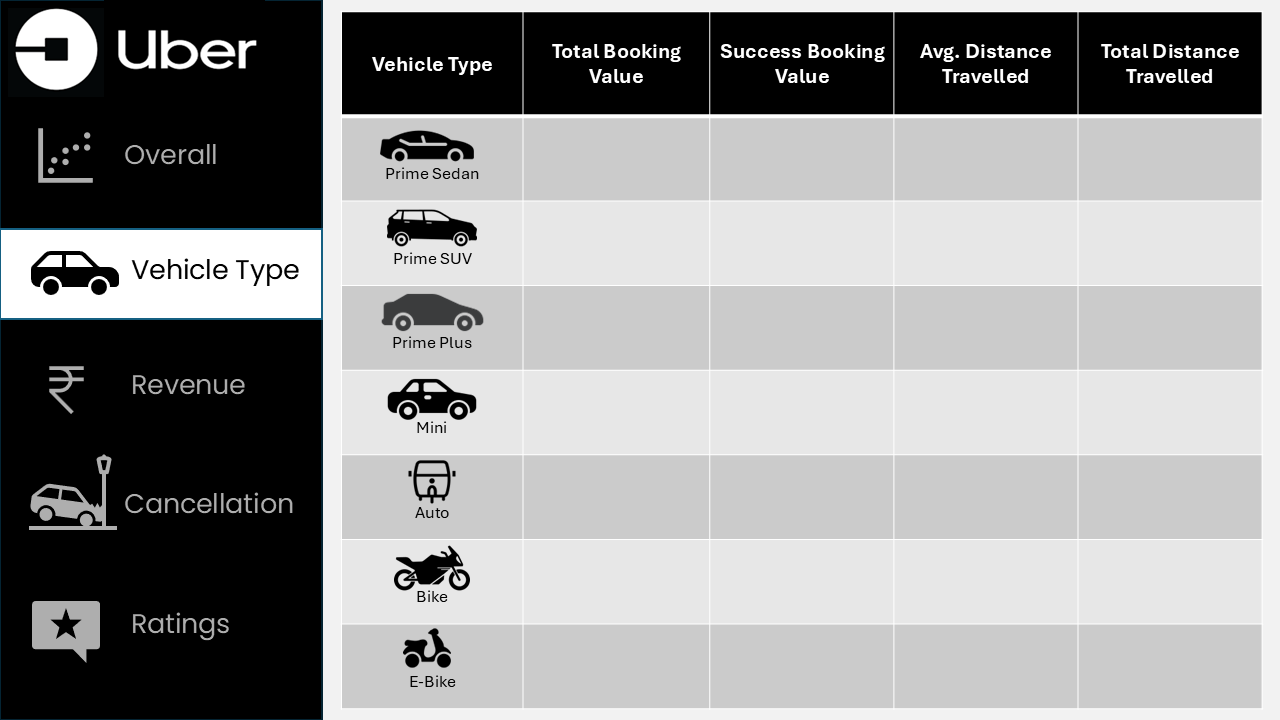

Layout of this report page (visuals, bound fields, positions):
{"tool":"powerbi","page":{"name":"Vehicle Type","canvas":[1280,720],"ordinal":1},"visuals":[{"type":"actionButton","box":[0,335.4,322.1,90.5],"z":0},{"type":"actionButton","box":[0,446.4,322.1,90.5],"z":1000},{"type":"actionButton","box":[0,573.1,322.1,90.5],"z":2000},{"type":"actionButton","box":[0,107.4,322.1,90.5],"z":3000},{"type":"card","fields":{"Values":["Sum(July.Booking_Value)"]},"box":[533.2,117,168.9,80.8],"z":4000},{"type":"card","fields":{"Values":["Sum(July.Booking_Value)"]},"box":[533.2,197.8,169.1,80.3],"z":4001},{"type":"card","fields":{"Values":["Sum(July.Booking_Value)"]},"box":[533.2,279.5,169.1,80.3],"z":4002},{"type":"card","fields":{"Values":["Sum(July.Booking_Value)"]},"box":[533.2,359.8,169.1,80.3],"z":4003},{"type":"card","fields":{"Values":["Sum(July.Booking_Value)"]},"box":[533.2,455.8,169.1,80.3],"z":4004},{"type":"card","fields":{"Values":["Sum(July.Booking_Value)"]},"box":[533.2,537.5,169.1,80.3],"z":4005},{"type":"card","fields":{"Values":["Sum(July.Booking_Value)"]},"box":[533.2,617.8,169.1,80.3],"z":4006},{"type":"card","fields":{"Values":["Sum(July.Booking_Value)"]},"box":[712.4,111.8,169.1,80.3],"z":4007},{"type":"card","fields":{"Values":["Sum(July.Booking_Value)"]},"box":[712.4,457.2,169.1,80.3],"z":4008},{"type":"card","fields":{"Values":["Sum(July.Booking_Value)"]},"box":[712.4,359.8,169.1,80.3],"z":4009},{"type":"card","fields":{"Values":["Sum(July.Booking_Value)"]},"box":[712.4,279.5,169.1,80.3],"z":4010},{"type":"card","fields":{"Values":["Sum(July.Booking_Value)"]},"box":[712.4,199.2,169.1,80.3],"z":4011},{"type":"card","fields":{"Values":["Sum(July.Booking_Value)"]},"box":[712.4,533.2,169.1,80.3],"z":4012},{"type":"card","fields":{"Values":["Sum(July.Booking_Value)"]},"box":[712.4,617.8,169.1,80.3],"z":4013},{"type":"card","fields":{"Values":["Avg(July.Ride_Distance)"]},"box":[897.3,111.8,169.1,80.3],"z":4014},{"type":"card","fields":{"Values":["Avg(July.Ride_Distance)"]},"box":[897.3,199.2,169.1,80.3],"z":4015},{"type":"card","fields":{"Values":["Avg(July.Ride_Distance)"]},"box":[897.3,279.5,169.1,80.3],"z":4016},{"type":"card","fields":{"Values":["Avg(July.Ride_Distance)"]},"box":[897.3,359.8,169.1,80.3],"z":4017},{"type":"card","fields":{"Values":["Avg(July.Ride_Distance)"]},"box":[897.3,451.5,169.1,80.3],"z":4018},{"type":"card","fields":{"Values":["Avg(July.Ride_Distance)"]},"box":[897.3,533.2,169.1,80.3],"z":4019},{"type":"card","fields":{"Values":["Avg(July.Ride_Distance)"]},"box":[897.3,623.5,169.1,80.3],"z":4020},{"type":"card","fields":{"Values":["Sum(July.Ride_Distance)"]},"box":[1079.3,111.8,169.1,80.3],"z":4021},{"type":"card","fields":{"Values":["Sum(July.Ride_Distance)"]},"box":[1079.3,199.2,169.1,80.3],"z":4022},{"type":"card","fields":{"Values":["Sum(July.Ride_Distance)"]},"box":[1079.3,279.5,169.1,80.3],"z":4023},{"type":"card","fields":{"Values":["Sum(July.Ride_Distance)"]},"box":[1079.3,365.5,169.1,80.3],"z":4024},{"type":"card","fields":{"Values":["Sum(July.Ride_Distance)"]},"box":[1079.3,451.5,169.1,80.3],"z":4025},{"type":"card","fields":{"Values":["Sum(July.Ride_Distance)"]},"box":[1079.3,533.2,169.1,80.3],"z":4026},{"type":"card","fields":{"Values":["Sum(July.Ride_Distance)"]},"box":[1079.3,623.5,169.1,80.3],"z":4027},{"type":"slicer","title":"Date","fields":{"Values":["July.Date"]},"box":[275.2,0,239.4,47.3],"z":4028}]}

Visuals, with their boxes in screenshot pixels (x1, y1, x2, y2), scaled from the page's 1280x720 canvas onto the 1280x720 screenshot:
actionButton: {"x1": 0, "y1": 335, "x2": 322, "y2": 426}
actionButton: {"x1": 0, "y1": 446, "x2": 322, "y2": 537}
actionButton: {"x1": 0, "y1": 573, "x2": 322, "y2": 664}
actionButton: {"x1": 0, "y1": 107, "x2": 322, "y2": 198}
card - Sum(July.Booking_Value): {"x1": 533, "y1": 117, "x2": 702, "y2": 198}
card - Sum(July.Booking_Value): {"x1": 533, "y1": 198, "x2": 702, "y2": 278}
card - Sum(July.Booking_Value): {"x1": 533, "y1": 280, "x2": 702, "y2": 360}
card - Sum(July.Booking_Value): {"x1": 533, "y1": 360, "x2": 702, "y2": 440}
card - Sum(July.Booking_Value): {"x1": 533, "y1": 456, "x2": 702, "y2": 536}
card - Sum(July.Booking_Value): {"x1": 533, "y1": 538, "x2": 702, "y2": 618}
card - Sum(July.Booking_Value): {"x1": 533, "y1": 618, "x2": 702, "y2": 698}
card - Sum(July.Booking_Value): {"x1": 712, "y1": 112, "x2": 882, "y2": 192}
card - Sum(July.Booking_Value): {"x1": 712, "y1": 457, "x2": 882, "y2": 538}
card - Sum(July.Booking_Value): {"x1": 712, "y1": 360, "x2": 882, "y2": 440}
card - Sum(July.Booking_Value): {"x1": 712, "y1": 280, "x2": 882, "y2": 360}
card - Sum(July.Booking_Value): {"x1": 712, "y1": 199, "x2": 882, "y2": 280}
card - Sum(July.Booking_Value): {"x1": 712, "y1": 533, "x2": 882, "y2": 614}
card - Sum(July.Booking_Value): {"x1": 712, "y1": 618, "x2": 882, "y2": 698}
card - Avg(July.Ride_Distance): {"x1": 897, "y1": 112, "x2": 1066, "y2": 192}
card - Avg(July.Ride_Distance): {"x1": 897, "y1": 199, "x2": 1066, "y2": 280}
card - Avg(July.Ride_Distance): {"x1": 897, "y1": 280, "x2": 1066, "y2": 360}
card - Avg(July.Ride_Distance): {"x1": 897, "y1": 360, "x2": 1066, "y2": 440}
card - Avg(July.Ride_Distance): {"x1": 897, "y1": 452, "x2": 1066, "y2": 532}
card - Avg(July.Ride_Distance): {"x1": 897, "y1": 533, "x2": 1066, "y2": 614}
card - Avg(July.Ride_Distance): {"x1": 897, "y1": 624, "x2": 1066, "y2": 704}
card - Sum(July.Ride_Distance): {"x1": 1079, "y1": 112, "x2": 1248, "y2": 192}
card - Sum(July.Ride_Distance): {"x1": 1079, "y1": 199, "x2": 1248, "y2": 280}
card - Sum(July.Ride_Distance): {"x1": 1079, "y1": 280, "x2": 1248, "y2": 360}
card - Sum(July.Ride_Distance): {"x1": 1079, "y1": 366, "x2": 1248, "y2": 446}
card - Sum(July.Ride_Distance): {"x1": 1079, "y1": 452, "x2": 1248, "y2": 532}
card - Sum(July.Ride_Distance): {"x1": 1079, "y1": 533, "x2": 1248, "y2": 614}
card - Sum(July.Ride_Distance): {"x1": 1079, "y1": 624, "x2": 1248, "y2": 704}
"Date" slicer: {"x1": 275, "y1": 0, "x2": 515, "y2": 47}
